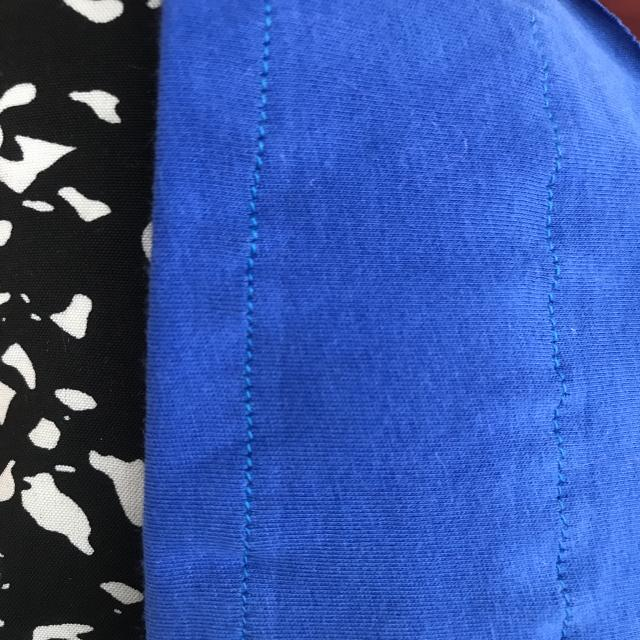good: (238, 342, 272, 524)
